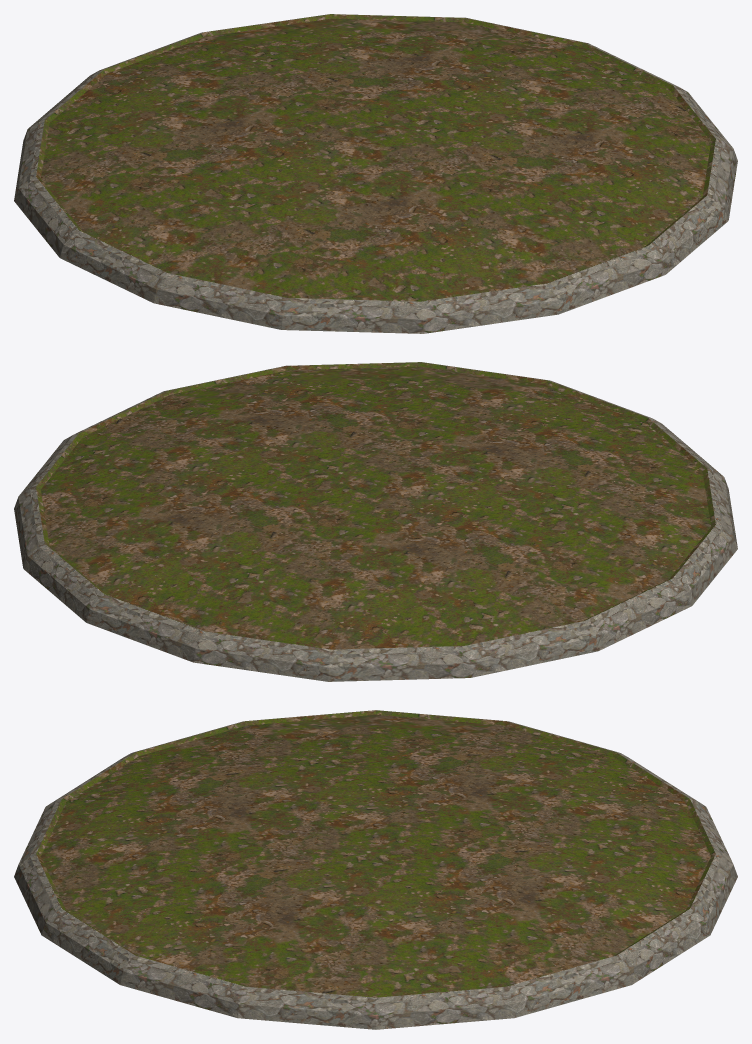
The model's file is BaseModelos.glb.
3 views of the same model, one above another, from view 1: azimuth 30°, elevation 25°; view 2: azimuth 150°, elevation 25°; view 3: azimuth 270°, elevation 25° (orthographic).
Parts seen in each view (by area): view 1: Base; view 2: Base; view 3: Base.
Boxes of the visible parts, <box> form: Base: <box>14,14,737,333</box>; Base: <box>14,362,737,681</box>; Base: <box>14,710,737,1029</box>.
Size of the model in its own units: 1.69 by 0.1125 by 1.69.
2 materials, 2 textured.
